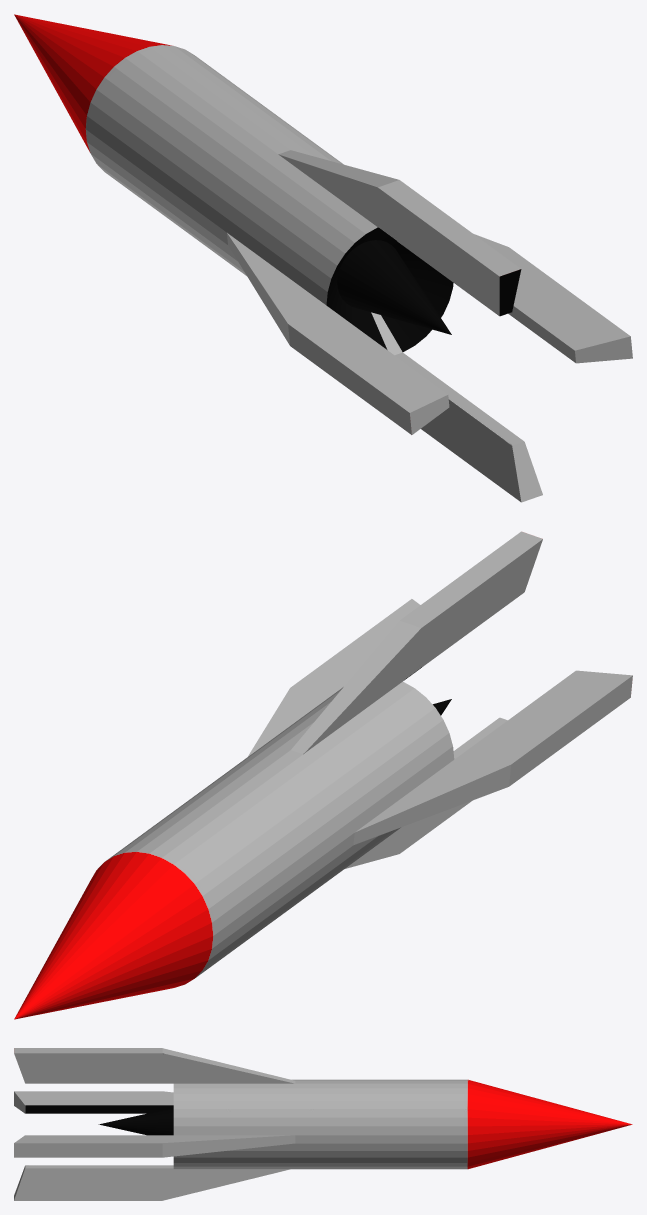
File: rocket.obj
3 renders of one model, top to bottom at view 1: azimuth 30°, elevation 25°; view 2: azimuth 150°, elevation 25°; view 3: azimuth 270°, elevation 25°, orthographic. The views are drawn at different scales.
Visible parts, largest first — view 1: Cube; view 2: Cube; view 3: Cube.
Boxes of the visible parts, <box> form: Cube: <box>14,14,632,502</box>; Cube: <box>14,531,632,1019</box>; Cube: <box>14,1048,632,1200</box>.
Bounding box in the file's own units: 1.4 × 1.4 × 5.5.
Materials: 1 (1 with a texture image).
